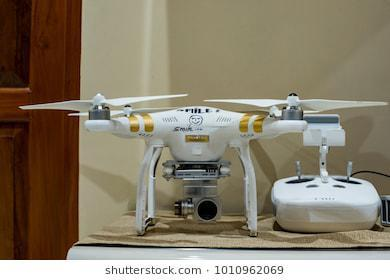drone: (20, 74, 360, 238)
